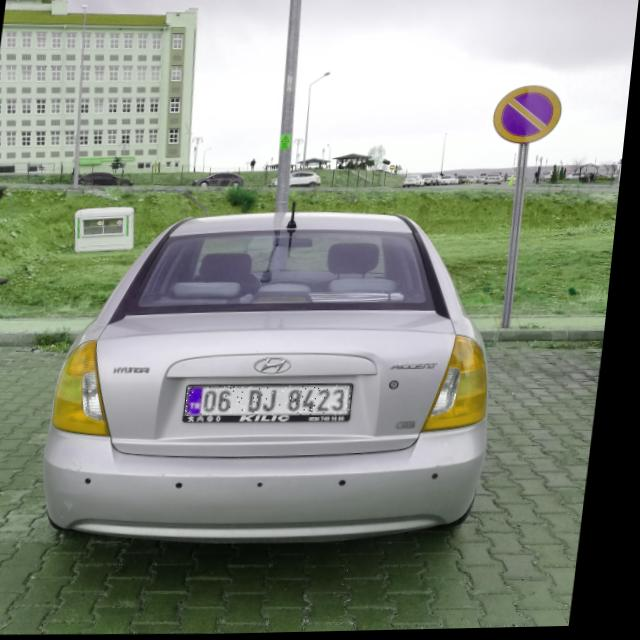license_plate: (193, 384, 361, 420)
